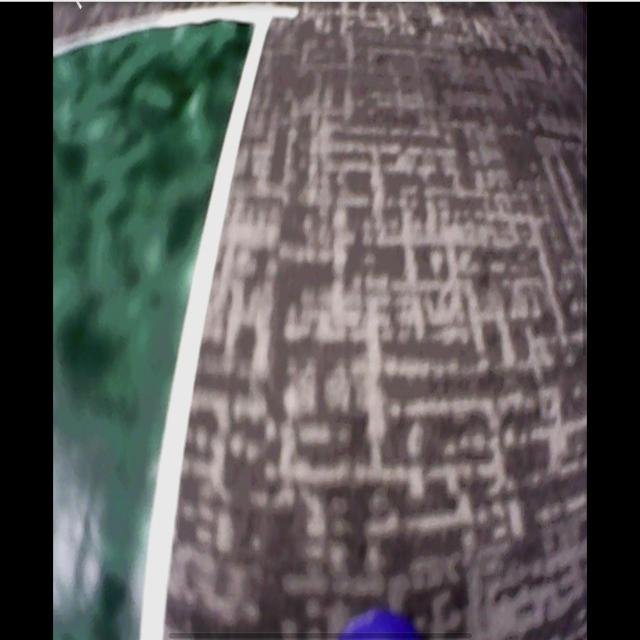ball: (342, 607, 420, 640)
